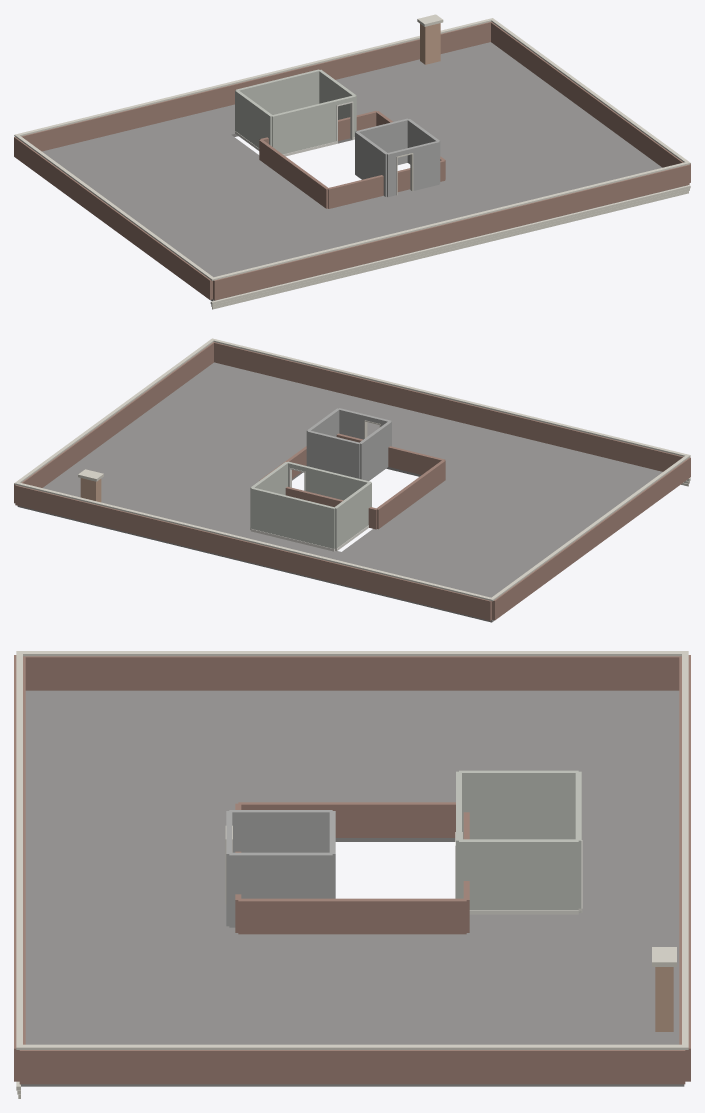
The model's file is roof.glb.
3 renders of one model, top to bottom at view 1: azimuth 30°, elevation 25°; view 2: azimuth 150°, elevation 25°; view 3: azimuth 270°, elevation 25°, orthographic. The views are drawn at different scales.
Visible parts, largest first — view 1: ROOF_slabs-col, ROOF_walls_brick-col, ROOF_furniture-col, ROOF_walls-col, ROOF_walls_conc-col, ROOF_walls_cbrick-col, ROOF_trim; view 2: ROOF_slabs-col, ROOF_walls_brick-col, ROOF_walls-col, ROOF_furniture-col, ROOF_walls_conc-col, ROOF_trim, ROOF_walls_cbrick-col; view 3: ROOF_slabs-col, ROOF_walls_brick-col, ROOF_walls-col, ROOF_furniture-col, ROOF_walls_conc-col, ROOF_walls_cbrick-col, ROOF_trim.
Boxes of the visible parts, left/top/right/bottom form: ROOF_slabs-col: left=42, top=42, right=685, bottom=301; ROOF_walls_brick-col: left=14, top=21, right=690, bottom=300; ROOF_furniture-col: left=14, top=14, right=690, bottom=309; ROOF_walls-col: left=235, top=69, right=356, bottom=154; ROOF_walls_conc-col: left=355, top=118, right=440, bottom=197; ROOF_walls_cbrick-col: left=420, top=23, right=440, bottom=64; ROOF_trim: left=235, top=101, right=354, bottom=156; ROOF_slabs-col: left=17, top=362, right=662, bottom=622; ROOF_walls_brick-col: left=14, top=342, right=690, bottom=620; ROOF_walls-col: left=250, top=461, right=371, bottom=548; ROOF_furniture-col: left=14, top=338, right=690, bottom=601; ROOF_walls_conc-col: left=306, top=408, right=391, bottom=480; ROOF_trim: left=250, top=468, right=368, bottom=551; ROOF_walls_cbrick-col: left=80, top=478, right=101, bottom=502; ROOF_slabs-col: left=20, top=690, right=684, bottom=1086; ROOF_walls_brick-col: left=14, top=655, right=690, bottom=1084; ROOF_walls-col: left=456, top=770, right=581, bottom=912; ROOF_furniture-col: left=16, top=651, right=688, bottom=1098; ROOF_walls_conc-col: left=226, top=810, right=335, bottom=927; ROOF_walls_cbrick-col: left=655, top=967, right=673, bottom=1031; ROOF_trim: left=455, top=832, right=582, bottom=914.
Bounding box in the file's own units: 28.35 × 2.95 × 20.35.
